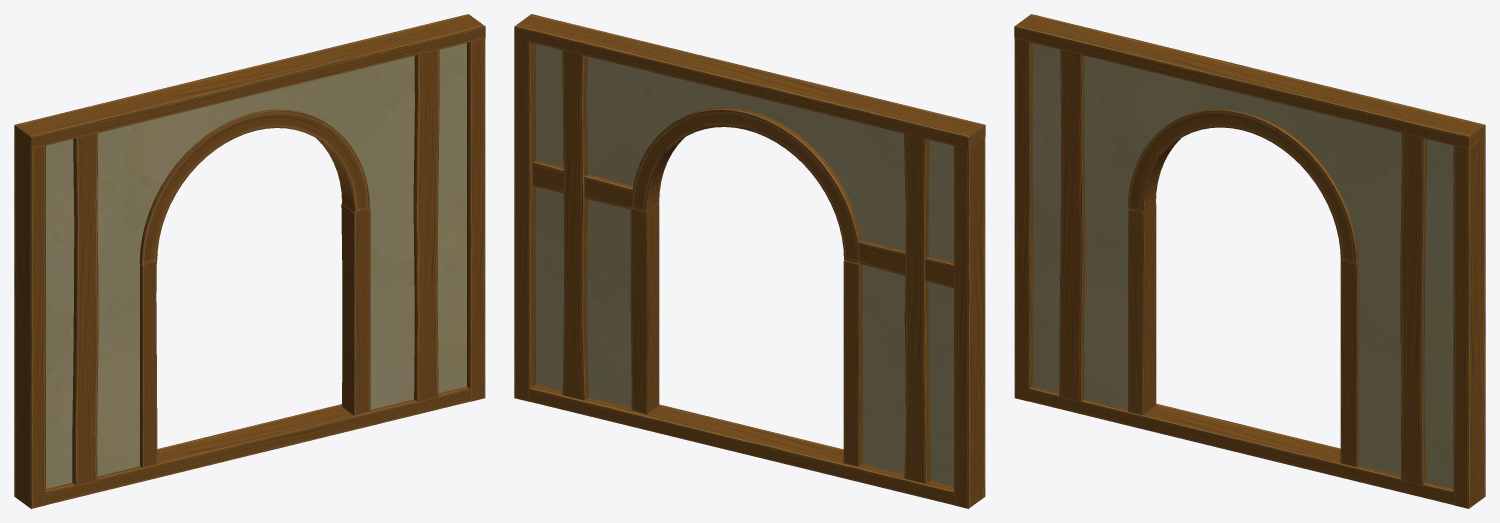
File: SM_House_Wall_5x4_Interior_Door_E_01.fbx
3 renders of one model, left to right at view 1: azimuth 30°, elevation 25°; view 2: azimuth 150°, elevation 25°; view 3: azimuth 330°, elevation 25°, orthographic.
Visible parts, largest first — view 1: SM_House_Wall_5x4_Interior_Door_E_01; view 2: SM_House_Wall_5x4_Interior_Door_E_01; view 3: SM_House_Wall_5x4_Interior_Door_E_01.
Part boxes in pixels (bbox=[...]): SM_House_Wall_5x4_Interior_Door_E_01: bbox=[14, 14, 485, 508]; SM_House_Wall_5x4_Interior_Door_E_01: bbox=[514, 14, 985, 508]; SM_House_Wall_5x4_Interior_Door_E_01: bbox=[1014, 14, 1485, 508].
Size of the model in its own units: 5 by 3.91 by 0.3241.
